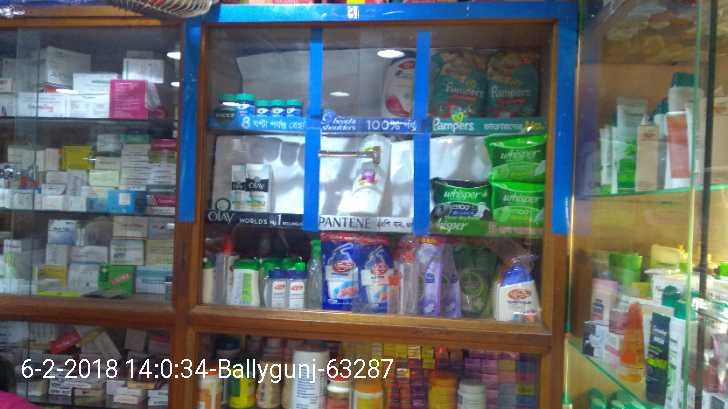vicks: (215, 90, 307, 120)
